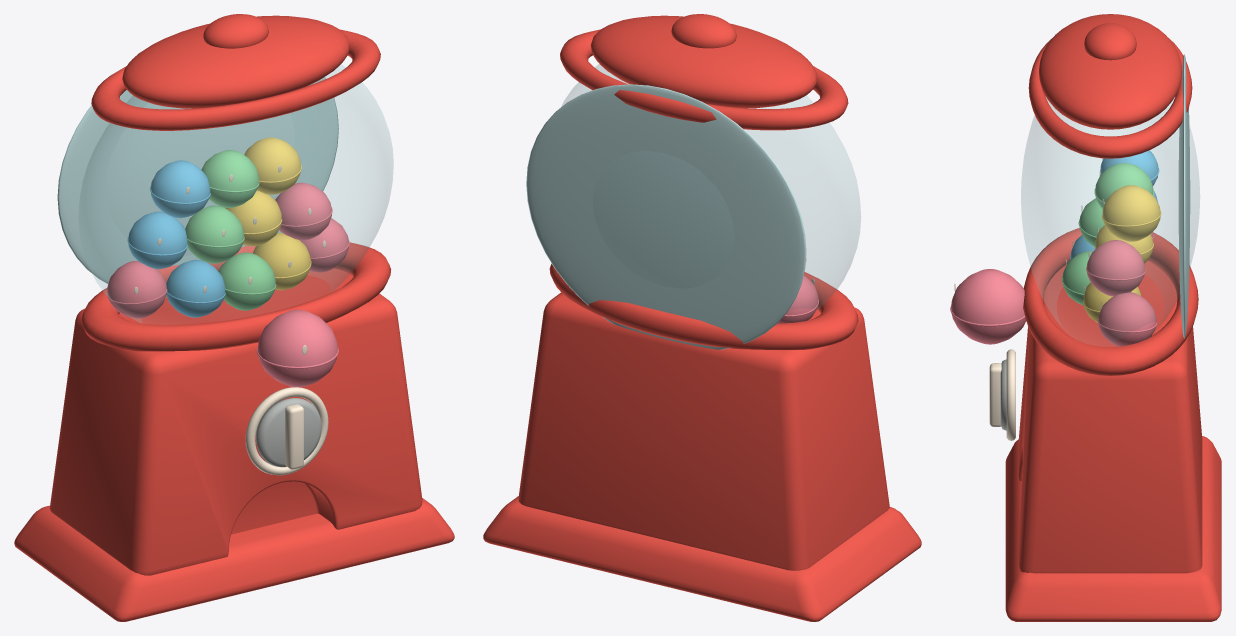
The model's file is gacha-machine.glb.
3 renders of one model, left to right at view 1: azimuth 30°, elevation 25°; view 2: azimuth 150°, elevation 25°; view 3: azimuth 270°, elevation 25°, orthographic. The views are drawn at different scales.
Parts seen in each view (by area): view 1: Body, GlassDome, DomeBowl, Base, ChamberBack, GlobeBaseRing, PrizeTop, CrankHub, CrankOuterRing, CapsuleTop_05, CapsuleTop_09, CapsuleTop_01 (+18 smaller); view 2: Body, ChamberBack, GlassDome, DomeBowl, Base, GlobeBaseRing, CapsuleTop_00; view 3: Body, GlassDome, DomeBowl, Base, GlobeBaseRing, PrizeTop, ChamberBack, CapsuleTop_11, CapsuleTop_08, CapsuleTop_04, CapsuleTop_10, PrizeBottom (+11 smaller).
Part boxes in pixels (x1,y1,x2,y2): Body: (49,268,422,575); GlassDome: (78,64,393,324); DomeBowl: (91,14,380,130); Base: (14,498,454,621); ChamberBack: (57,77,338,283); GlobeBaseRing: (81,242,391,351); PrizeTop: (258,309,337,366); CrankHub: (256,398,321,467); CrankOuterRing: (245,387,328,475); CapsuleTop_05: (128,211,187,254); CapsuleTop_09: (150,160,210,202); CapsuleTop_01: (166,259,225,302); Body: (518,292,889,570); ChamberBack: (526,84,806,349); GlassDome: (561,64,860,310); DomeBowl: (560,14,848,130); Base: (483,496,921,621); GlobeBaseRing: (549,263,858,349); CapsuleTop_00: (785,275,818,315); Body: (1018,261,1202,573); GlassDome: (1021,97,1199,346); DomeBowl: (1028,14,1192,158); Base: (1005,436,1221,621); GlobeBaseRing: (1023,228,1198,375); PrizeTop: (951,269,1024,324); ChamberBack: (1178,54,1190,338); CapsuleTop_11: (1102,185,1160,225); CapsuleTop_08: (1086,240,1144,279); CapsuleTop_04: (1098,292,1156,331); CapsuleTop_10: (1095,163,1153,202); PrizeBottom: (951,314,1026,344).
Size of the model in its own units: 3.63 by 5.38 by 2.57.
